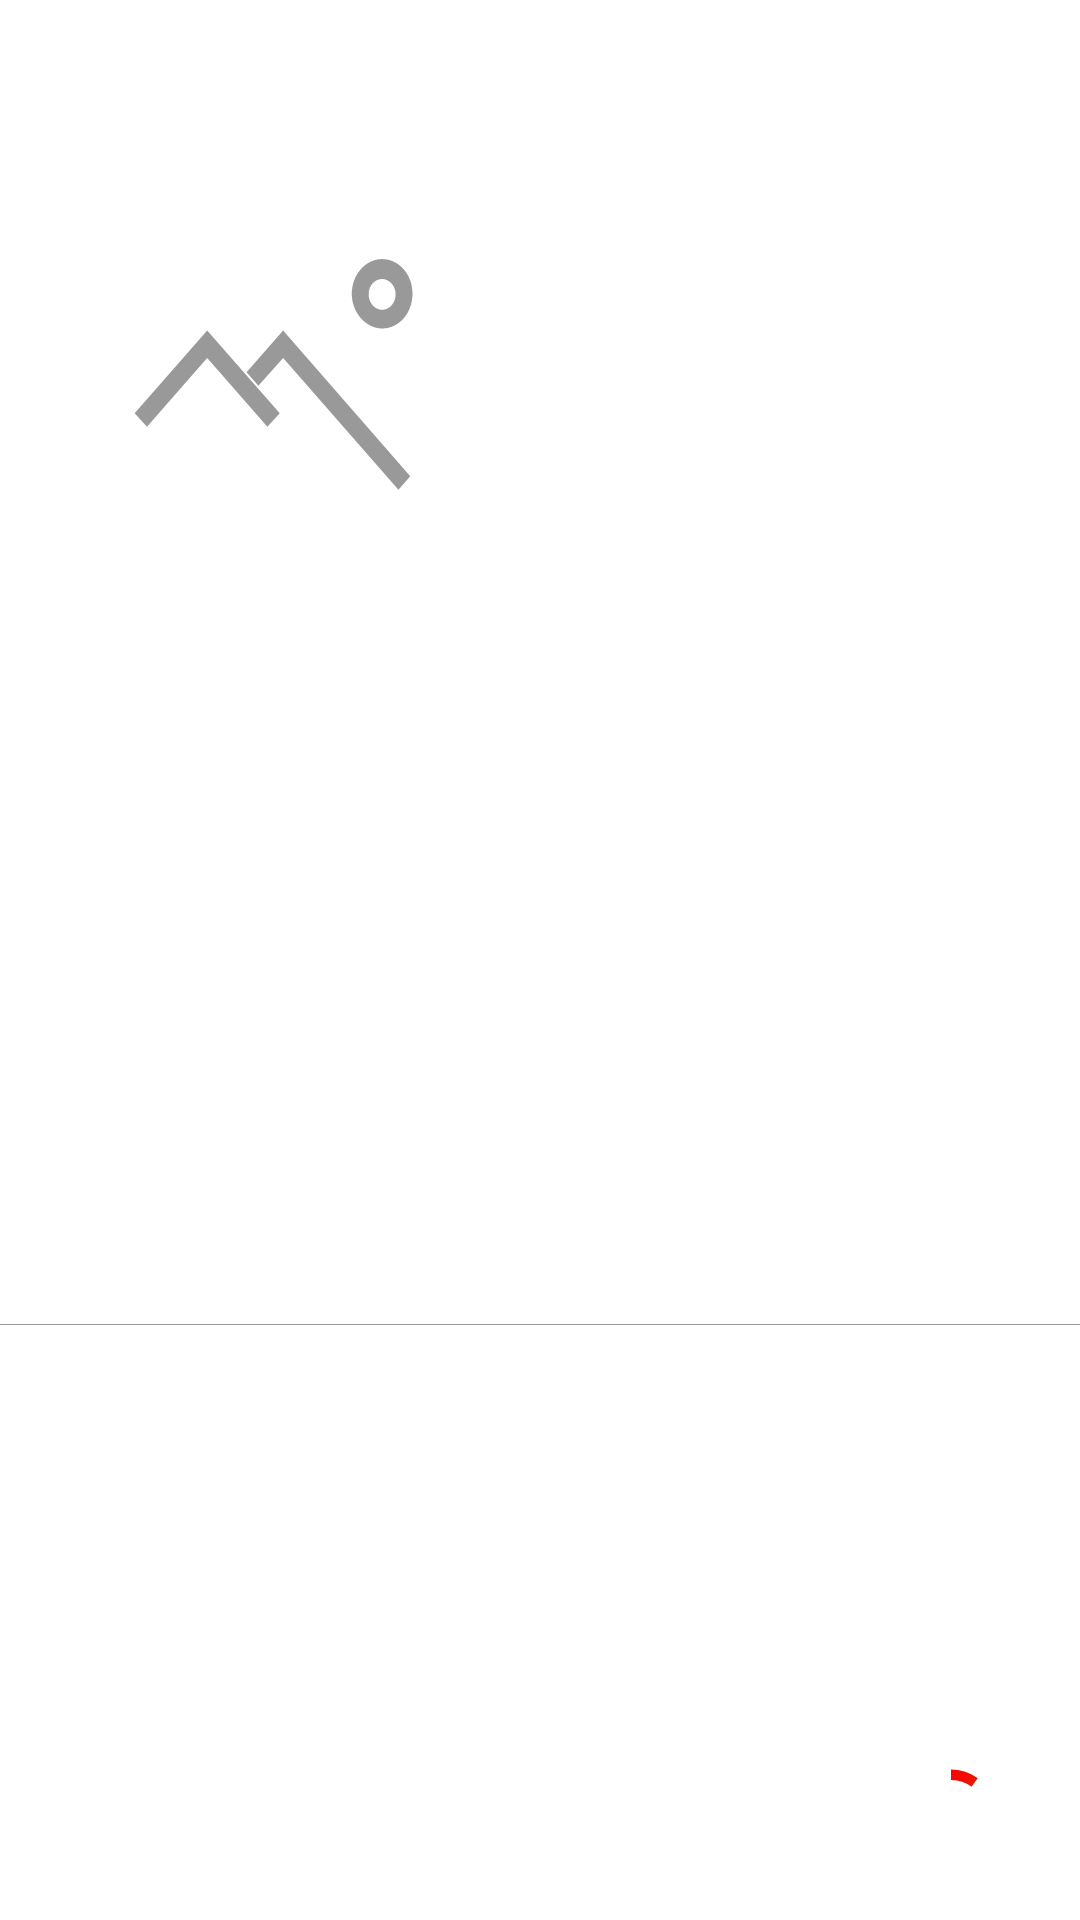

Where icons sit on this 1080 × 1920 app screen, as Rect(x1, y1, x2, y2):
no photo: Rect(135, 259, 413, 490)
